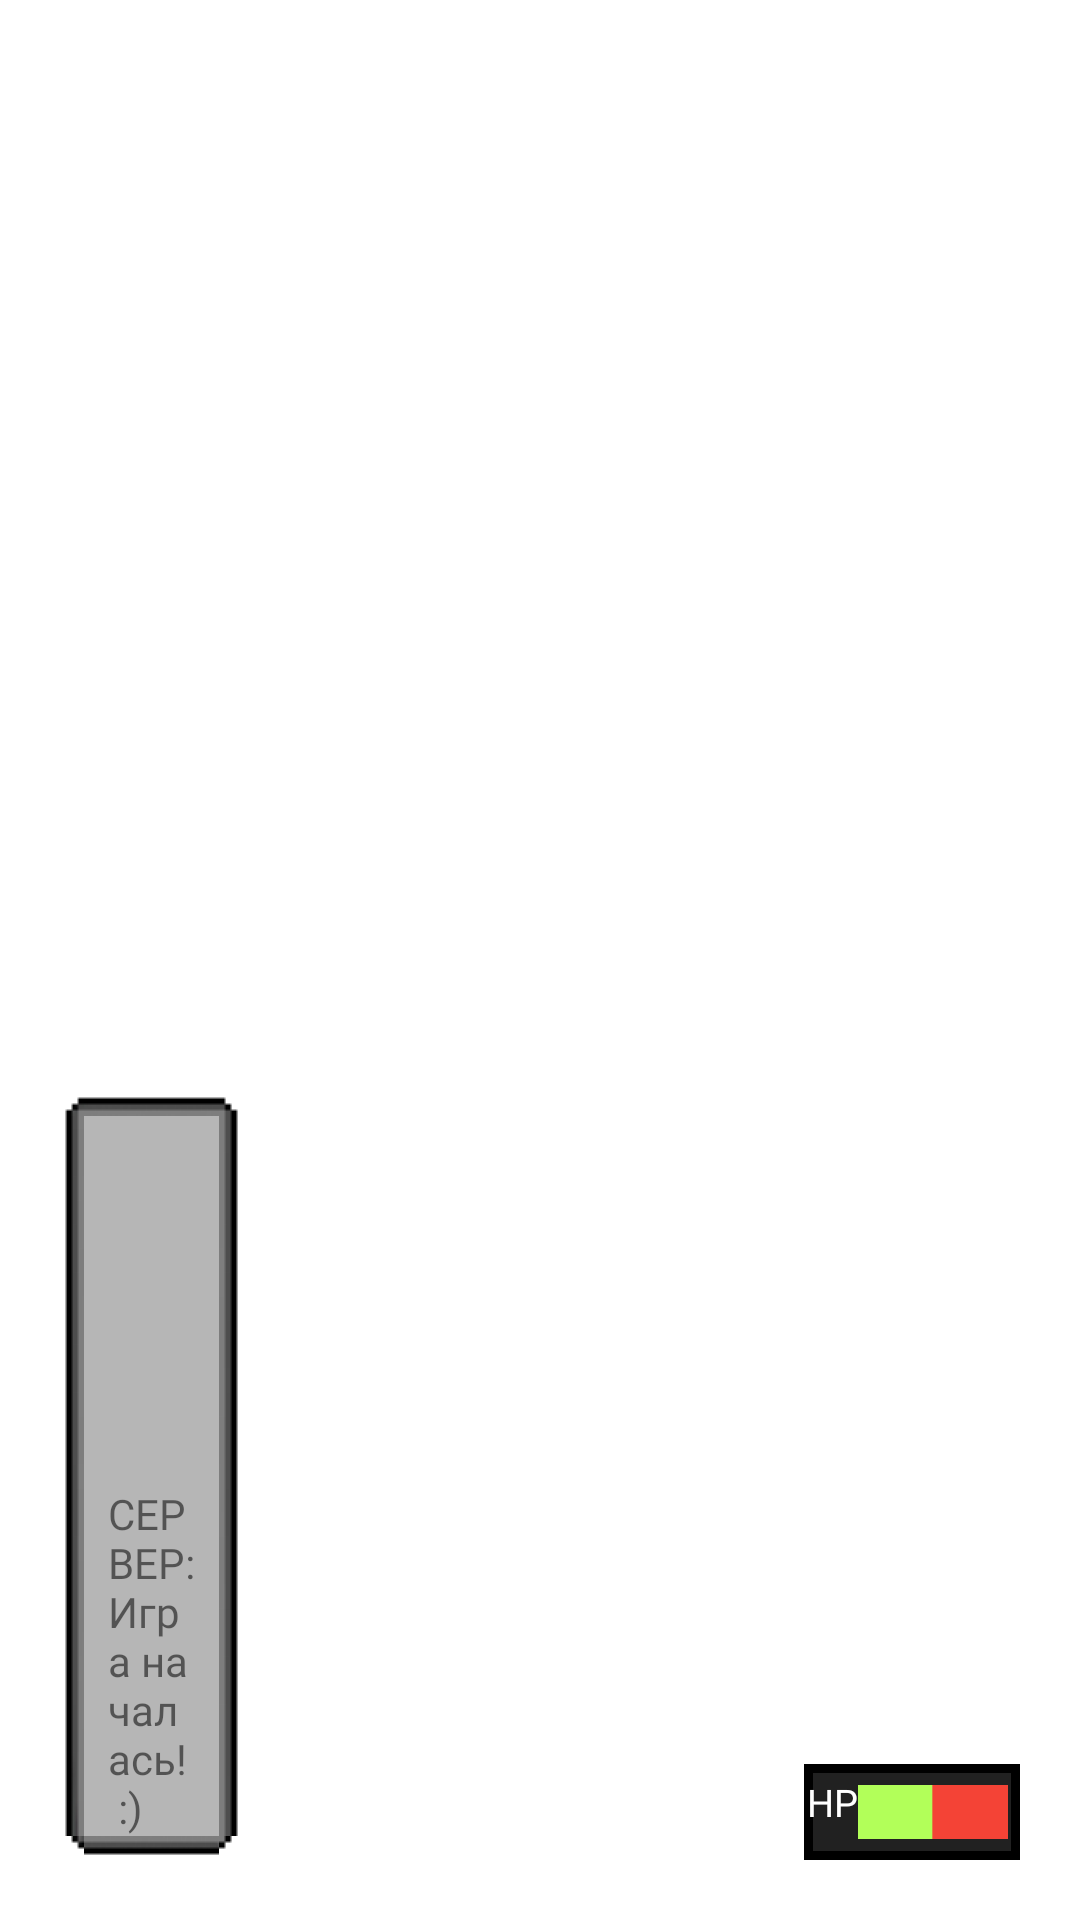

Icon click points for this 1080*1920 phone screenshot, format [x,y]:
bar th: [933,1812]
